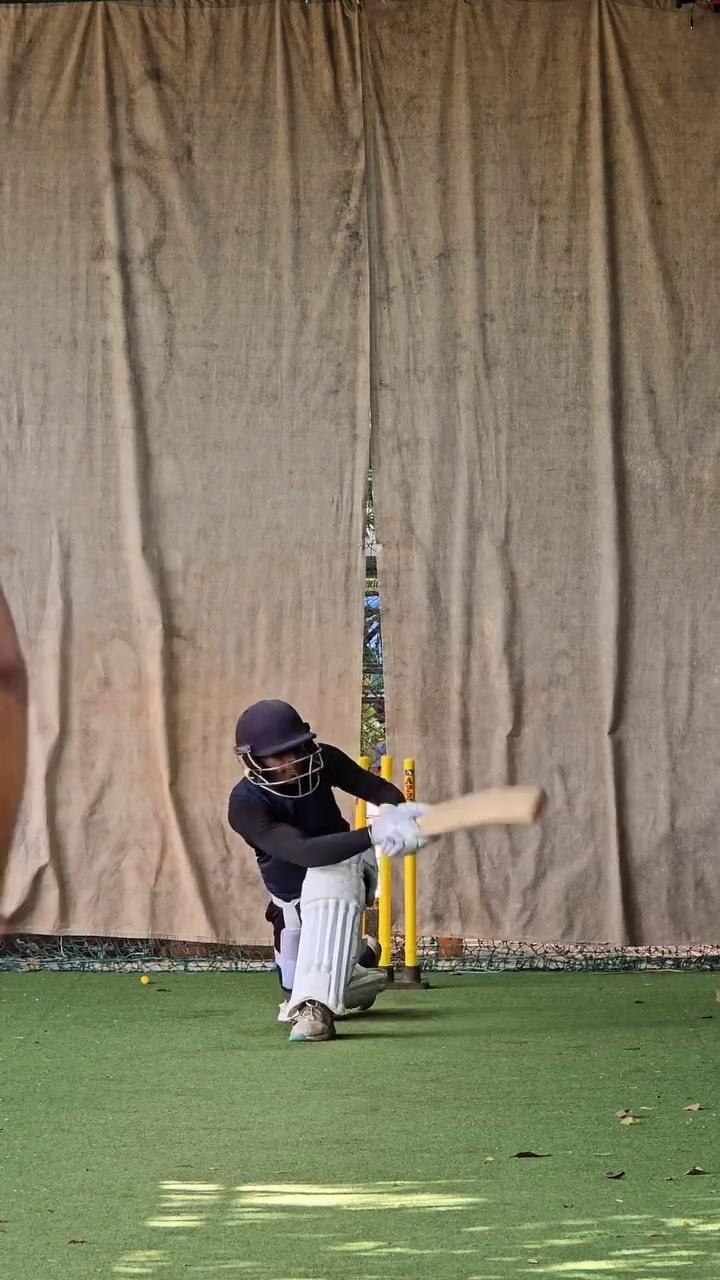bat: (417, 780, 555, 834)
